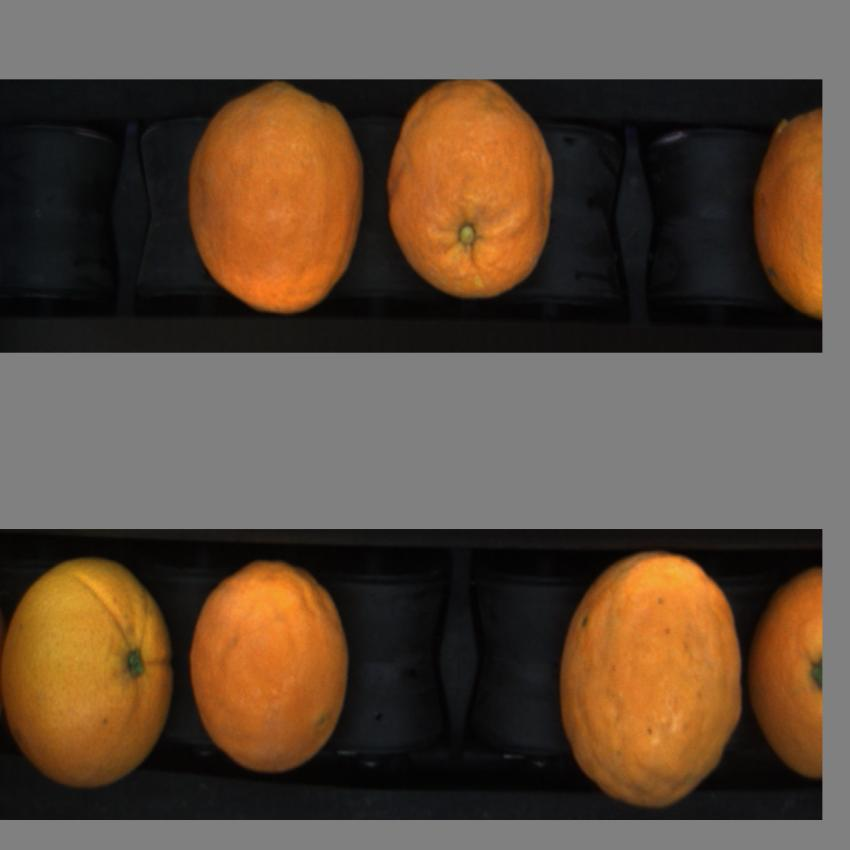Buen estado: (558, 549, 744, 806), (3, 553, 175, 790), (749, 561, 822, 781)
Mal estado: (186, 85, 369, 311), (389, 83, 558, 304), (188, 554, 352, 777), (749, 98, 821, 322)
